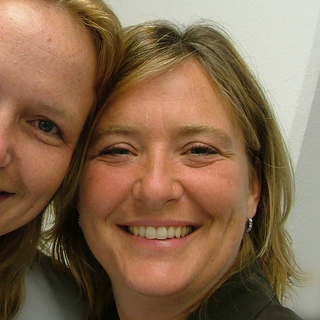eye: (19, 109, 71, 150), (172, 138, 230, 167), (92, 139, 140, 166)
